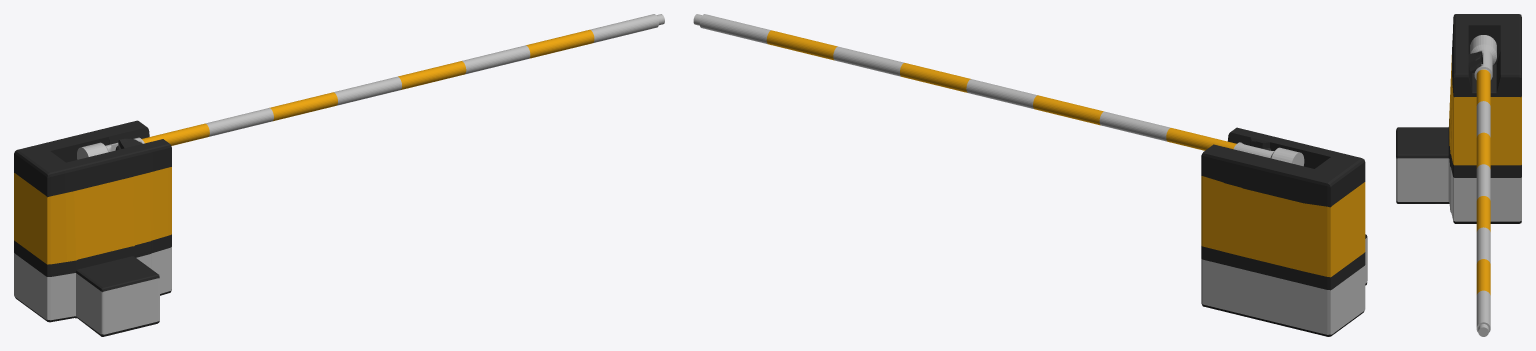
File: tollGate.glb
3 renders of one model, left to right at view 1: azimuth 30°, elevation 25°; view 2: azimuth 150°, elevation 25°; view 3: azimuth 270°, elevation 25°, orthographic. The views are drawn at different scales.
Parts seen in each view (by area): view 1: Train Road Block.001, Train Road Block_Rail.001; view 2: Train Road Block.001, Train Road Block_Rail.001; view 3: Train Road Block.001, Train Road Block_Rail.001.
Part boxes in pixels (x1,y1,x2,y2): Train Road Block.001: [14, 120, 171, 336]; Train Road Block_Rail.001: [77, 14, 664, 159]; Train Road Block.001: [1201, 127, 1367, 336]; Train Road Block_Rail.001: [693, 14, 1304, 166]; Train Road Block.001: [1396, 14, 1521, 223]; Train Road Block_Rail.001: [1470, 35, 1496, 336].
Size of the model in its own units: 5.63 by 1.31 by 0.9653.
